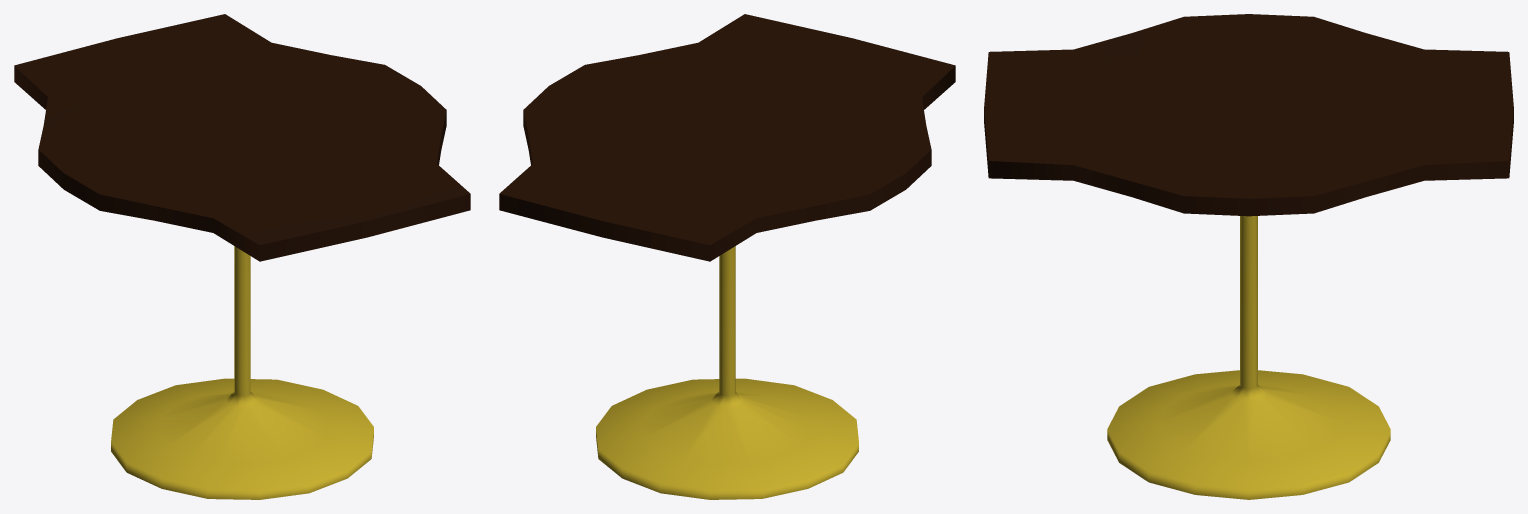
The model's file is Table.fbx.
3 renders of one model, left to right at view 1: azimuth 30°, elevation 25°; view 2: azimuth 150°, elevation 25°; view 3: azimuth 270°, elevation 25°, orthographic. The views are drawn at different scales.
Parts seen in each view (by area): view 1: Table; view 2: Table; view 3: Table.
Part boxes in pixels (x1,y1,x2,y2): Table: (14,14,470,499); Table: (499,14,955,499); Table: (984,14,1513,499).
Bounding box in the file's own units: 2.24 × 1.89 × 2.72.
